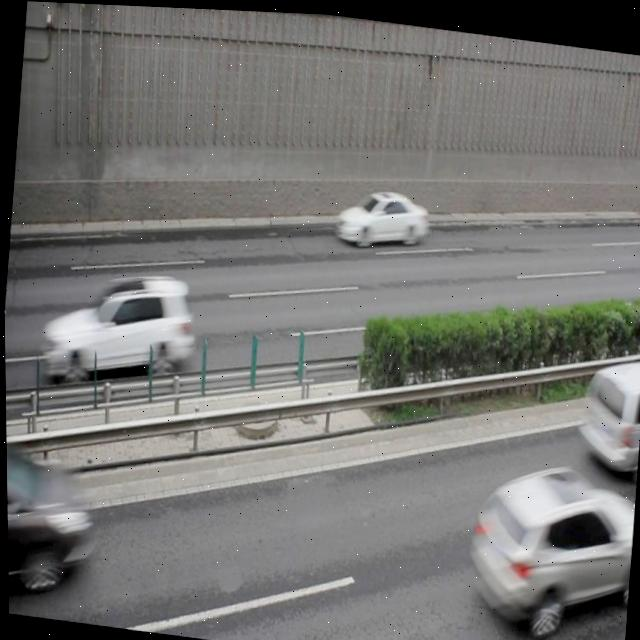car: (459, 451, 635, 639), (38, 258, 198, 394), (332, 177, 429, 249)
truck: (572, 346, 640, 468)
